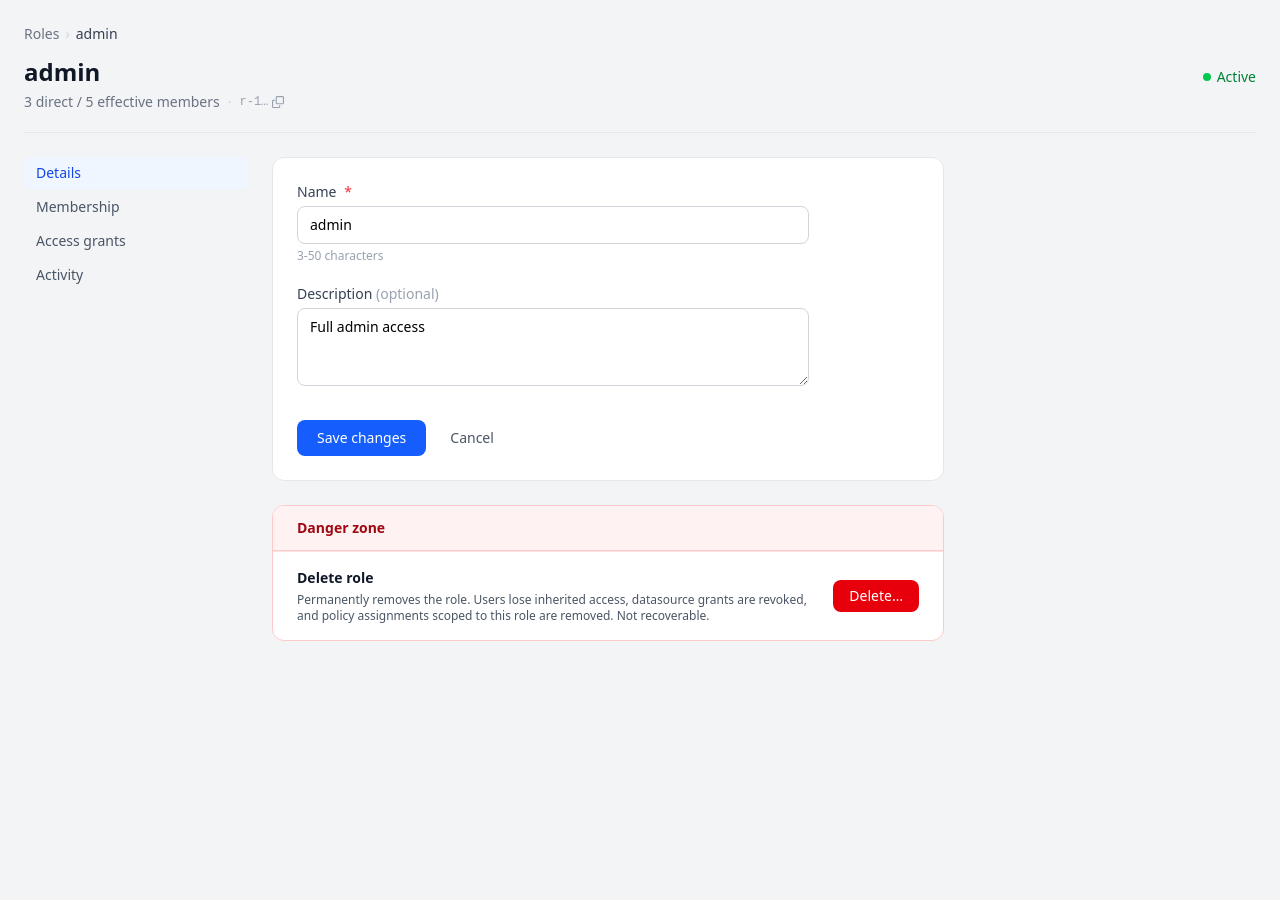
Test: RoleEditPage › switches to Access grants section and shows both datasource access and policy assignments
The width and height of the screenshot is (1280, 900).
Check: the field showing "admin" is shown, box [297,206,809,244]
Click the button "Access grants". click: (136, 241)
box: [24,225,248,257]
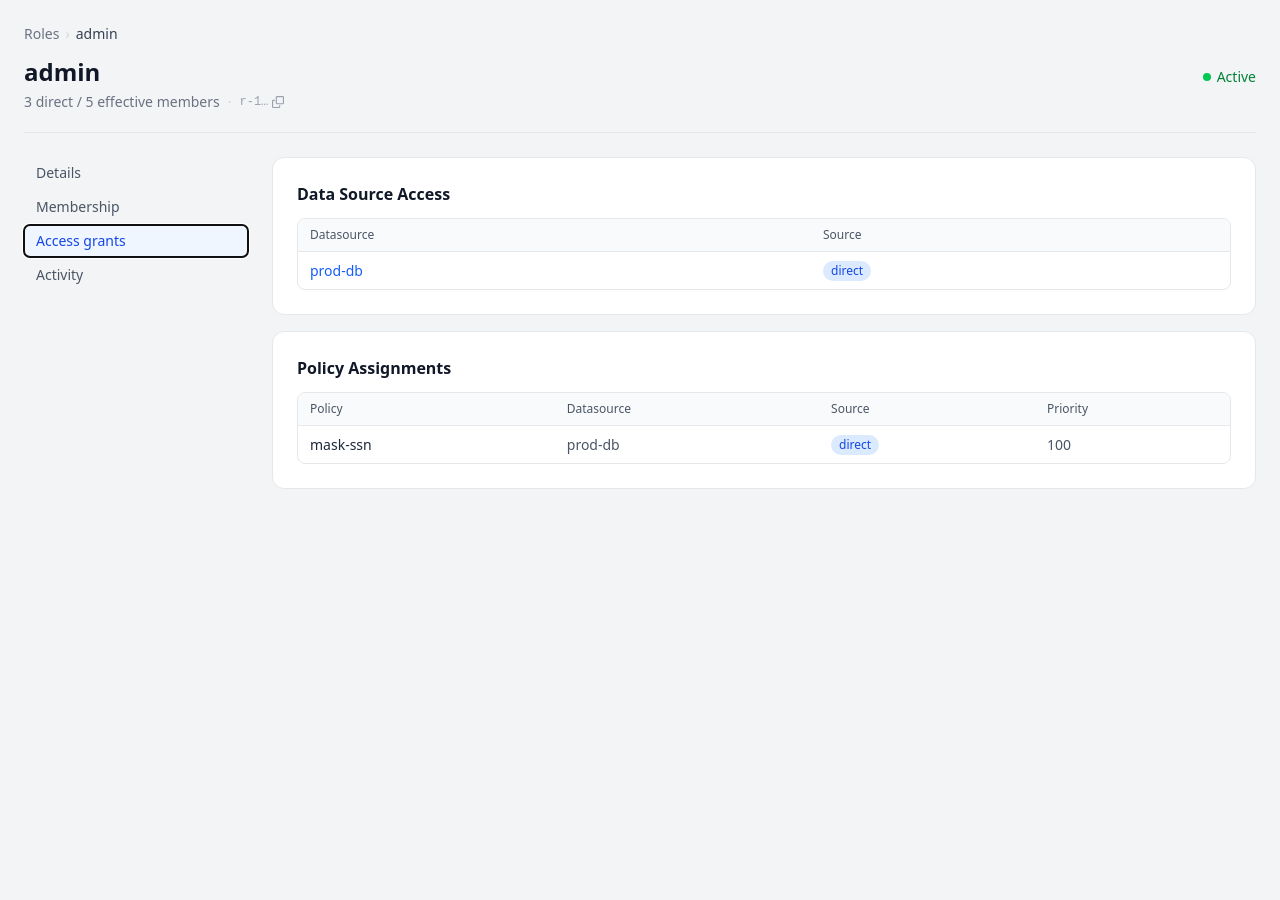
Check: the heading "Data Source Access" is shown, box [297,183,450,205]
Check: the button "prod-db" is shown, box [310,260,363,280]
Check: the text "mask-ssn" is shown, box [298,426,555,463]
